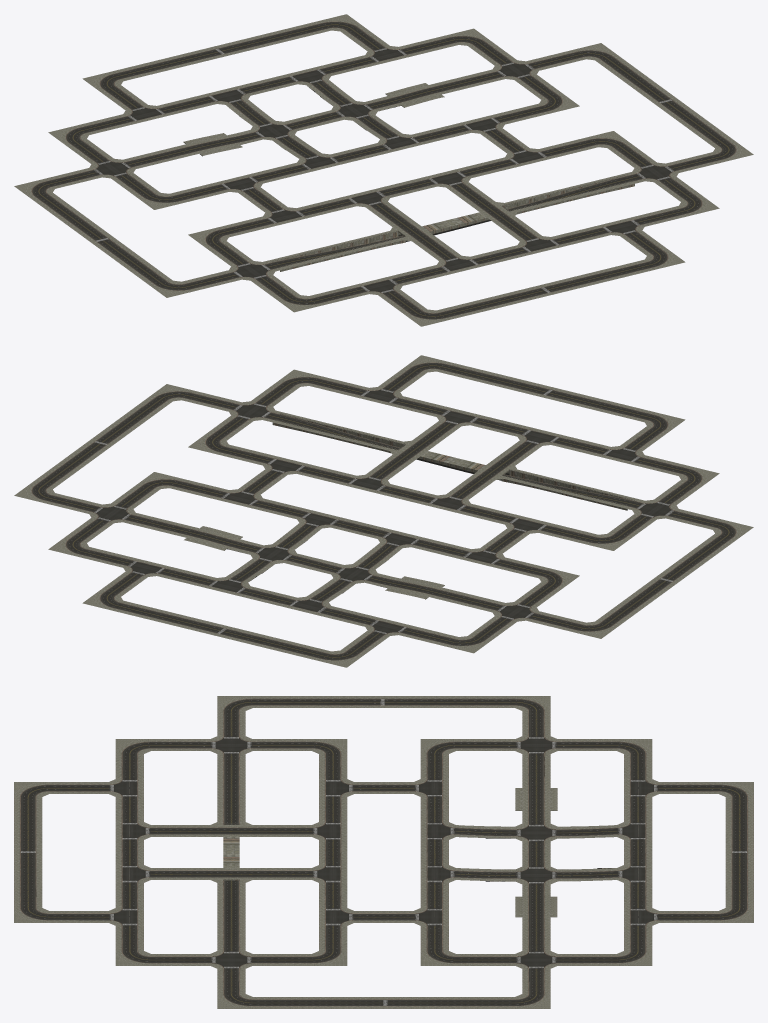
3 renders of one model, top to bottom at view 1: azimuth 30°, elevation 25°; view 2: azimuth 150°, elevation 25°; view 3: azimuth 270°, elevation 25°, orthographic. The views are drawn at different scales.
Visible parts, largest first — view 1: Double_Block_10_B; view 2: Double_Block_10_B; view 3: Double_Block_10_B.
Boxes of the visible parts, x1=… form: Double_Block_10_B: x1=14, y1=14, x2=753, y2=326; Double_Block_10_B: x1=14, y1=355, x2=753, y2=667; Double_Block_10_B: x1=14, y1=696, x2=753, y2=1008.
Bounding box in the file's own units: 728 × 7.87 × 728.
1 material, 1 textured.
